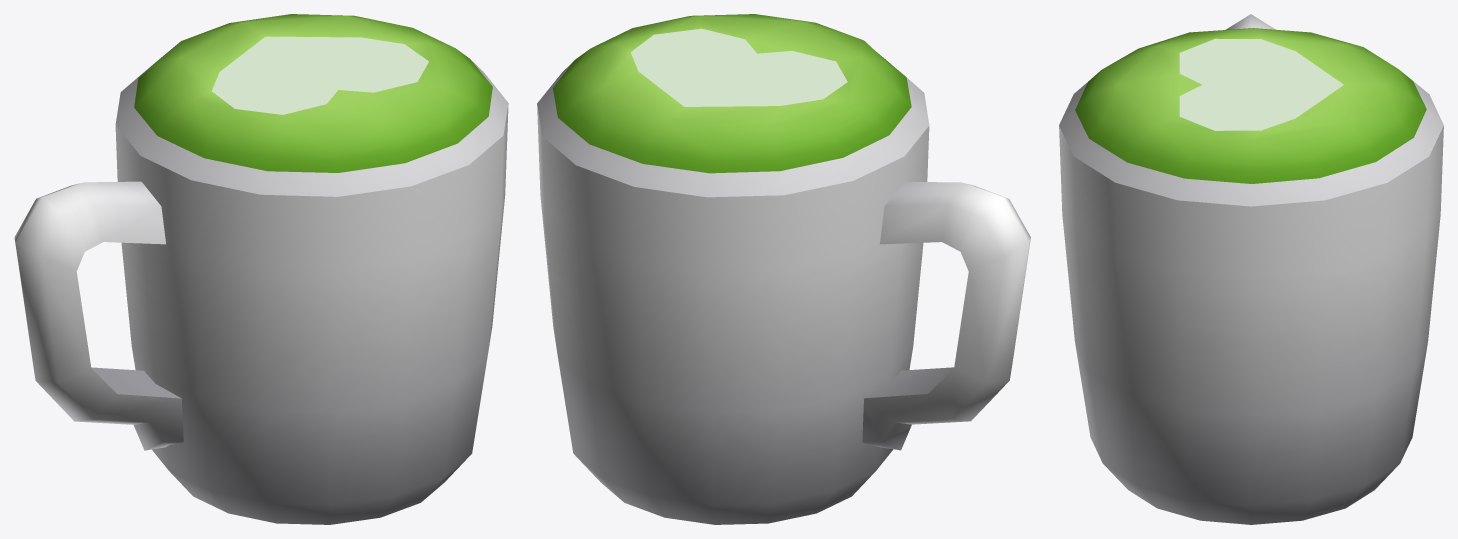
Rendered from m_Mug01_Matcha02.fbx.
The picture shows the model from 3 angles, left to right: view 1: azimuth 30°, elevation 25°; view 2: azimuth 150°, elevation 25°; view 3: azimuth 270°, elevation 25°; orthographic projection. The views are drawn at different scales.
Visible parts, largest first — view 1: m_Mug01_Matcha02; view 2: m_Mug01_Matcha02; view 3: m_Mug01_Matcha02.
Boxes of the visible parts, x1,y1,x2,y2 form: m_Mug01_Matcha02: [14, 14, 508, 524]; m_Mug01_Matcha02: [537, 14, 1030, 524]; m_Mug01_Matcha02: [1059, 14, 1443, 524].
Size of the model in its own units: 15.22 by 12.3 by 11.16.
